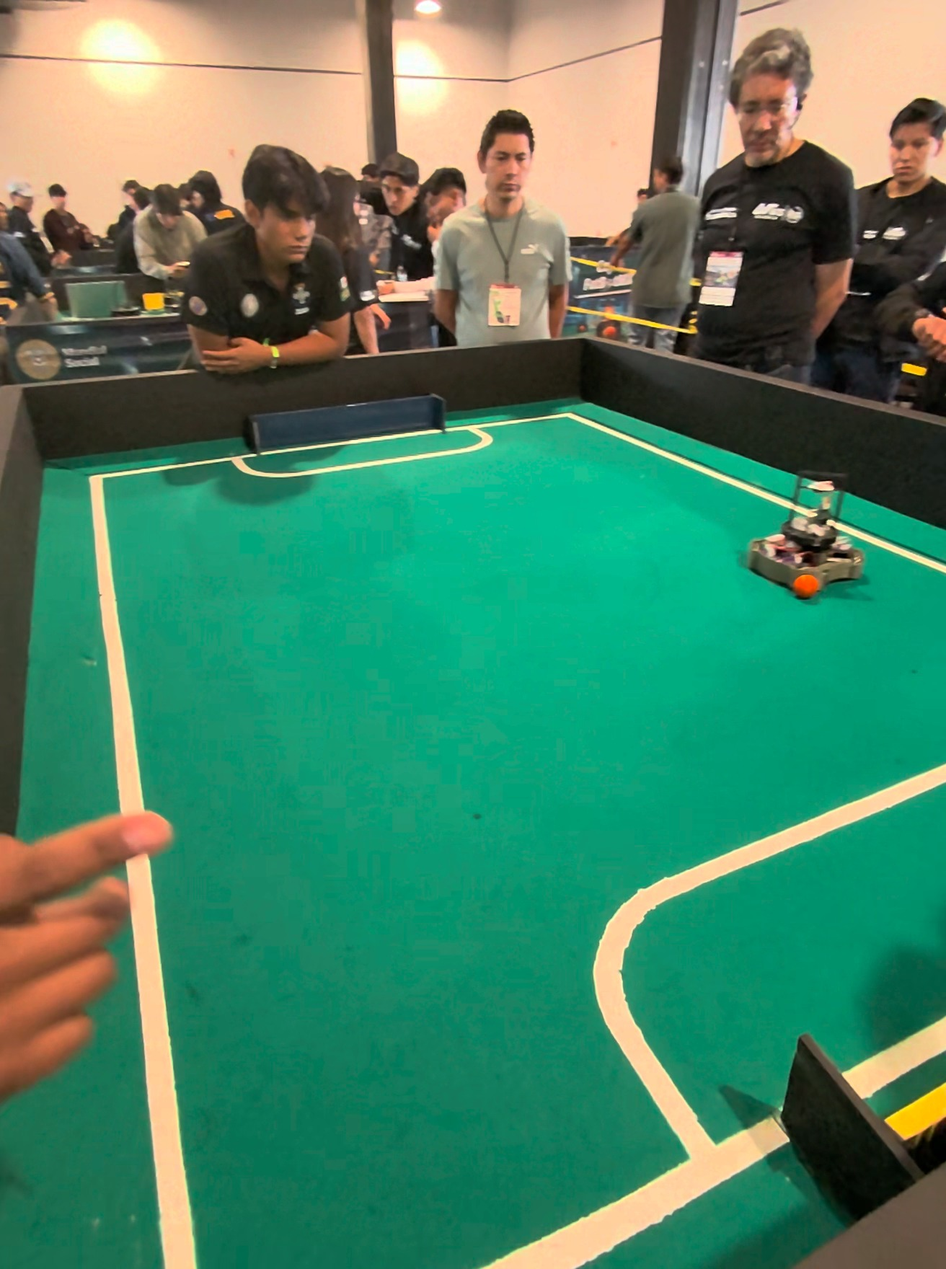Robot: (743, 485, 863, 602)
pelota: (779, 558, 834, 612)
